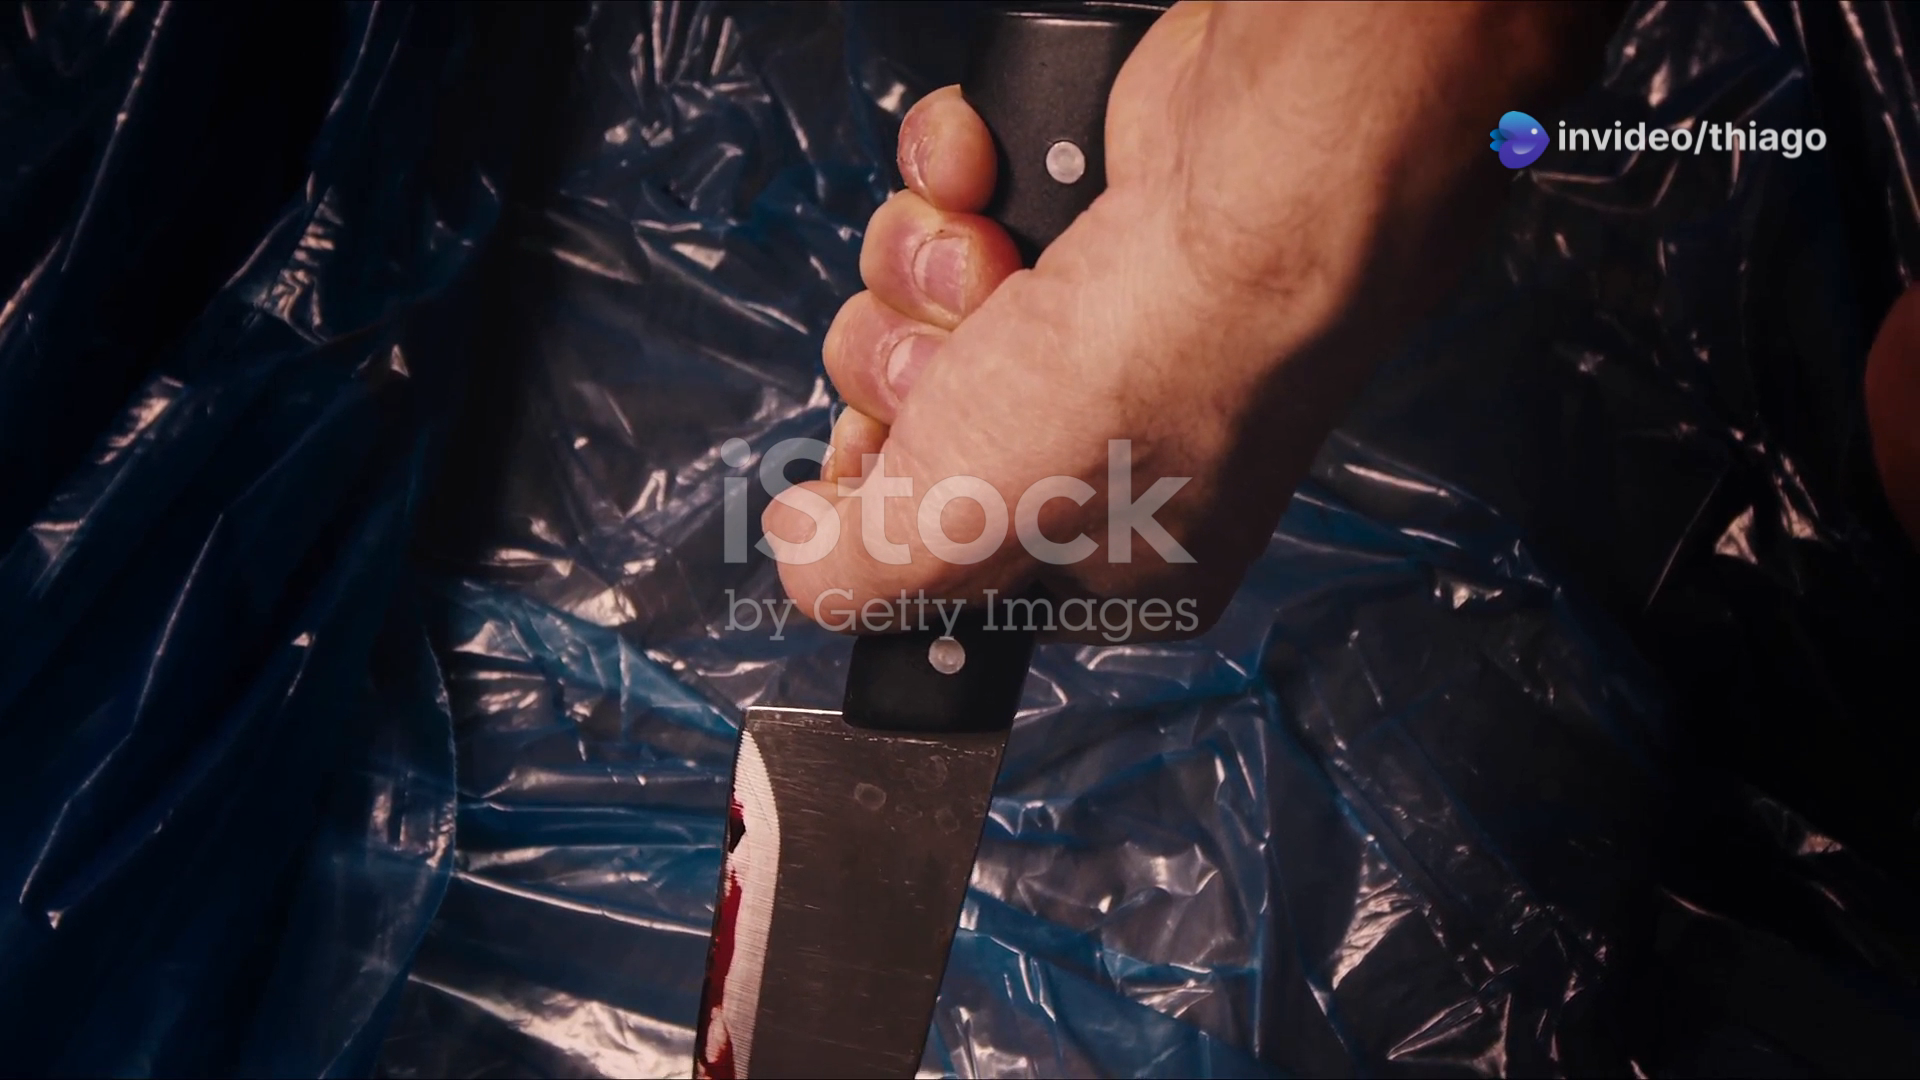cortante: (690, 703, 1010, 1080)
